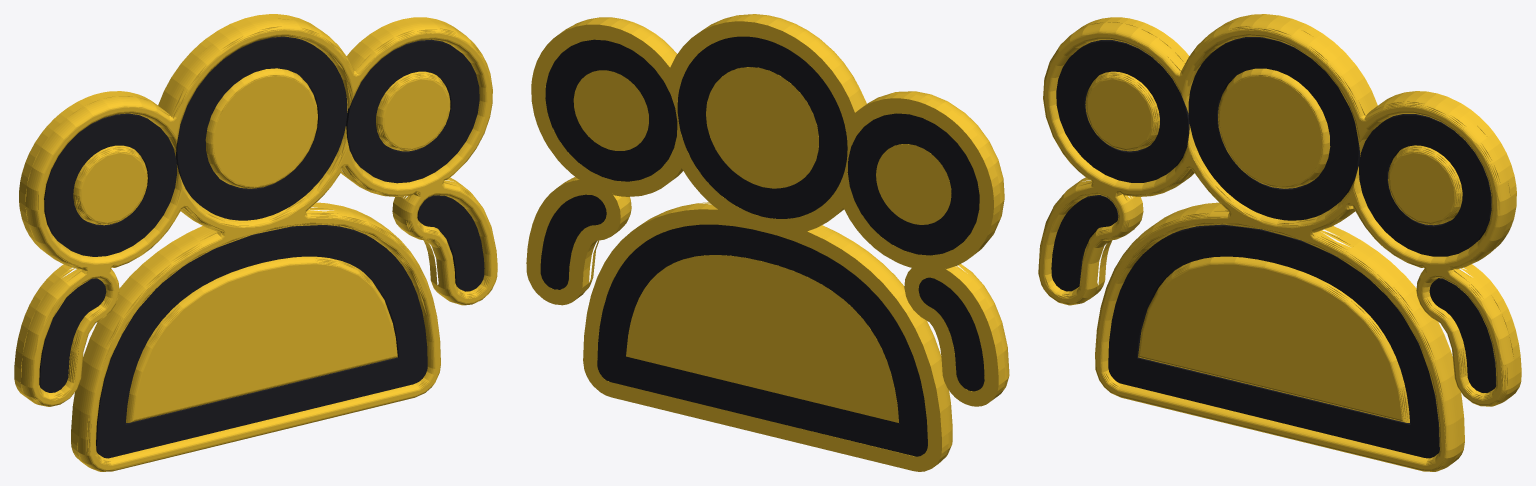
File: buddies_t8.glb
3 views of the same model, side by side, from view 1: azimuth 30°, elevation 25°; view 2: azimuth 150°, elevation 25°; view 3: azimuth 330°, elevation 25° (orthographic).
Parts seen in each view (by area): view 1: mark, mark_channel; view 2: mark, mark_channel; view 3: mark, mark_channel.
Part boxes in pixels (x1,y1,x2,y2): mark: (14, 14, 497, 471); mark_channel: (39, 36, 484, 458); mark: (526, 14, 1009, 471); mark_channel: (540, 36, 984, 456); mark: (1038, 14, 1521, 471); mark_channel: (1051, 37, 1496, 458).
Bounding box in the file's own units: 0.4498 × 0.3733 × 0.024.
